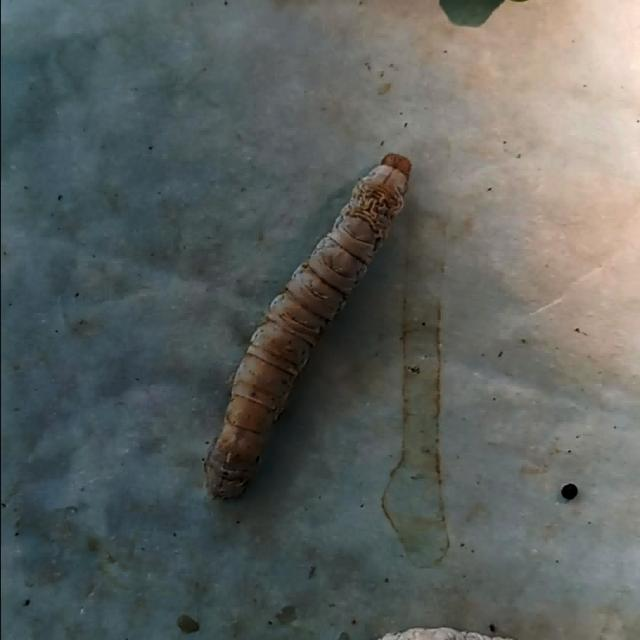Grasserie: (193, 130, 422, 514)
